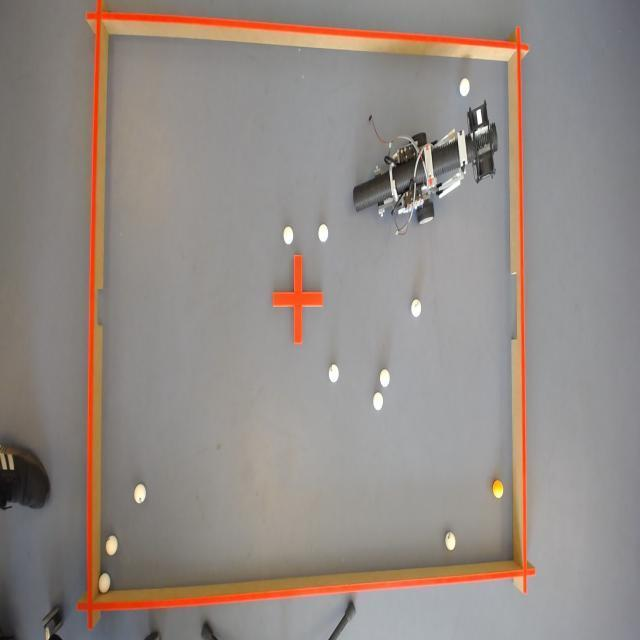orange: (494, 479, 506, 499)
robot: (354, 108, 507, 235)
white: (133, 483, 146, 505), (282, 224, 294, 246), (107, 534, 119, 556), (315, 222, 328, 242), (444, 533, 457, 552), (98, 572, 109, 594), (410, 298, 422, 318), (329, 363, 340, 384), (379, 368, 391, 387), (461, 77, 472, 96), (372, 392, 382, 412)
